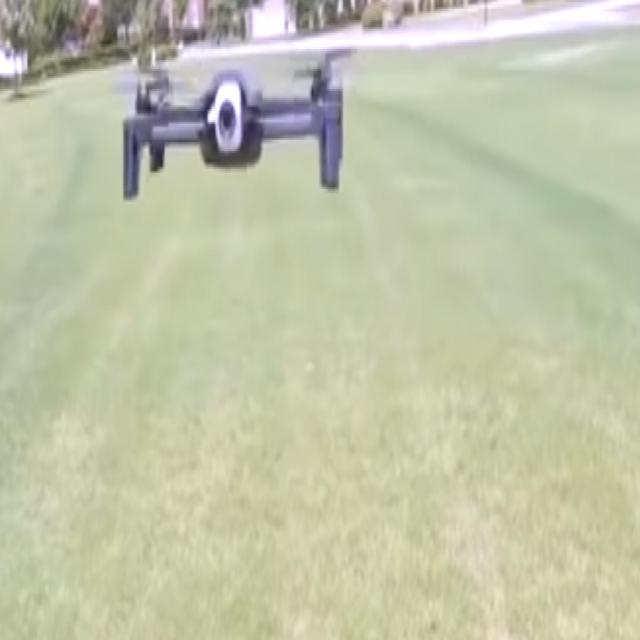drone: (80, 0, 375, 236)
